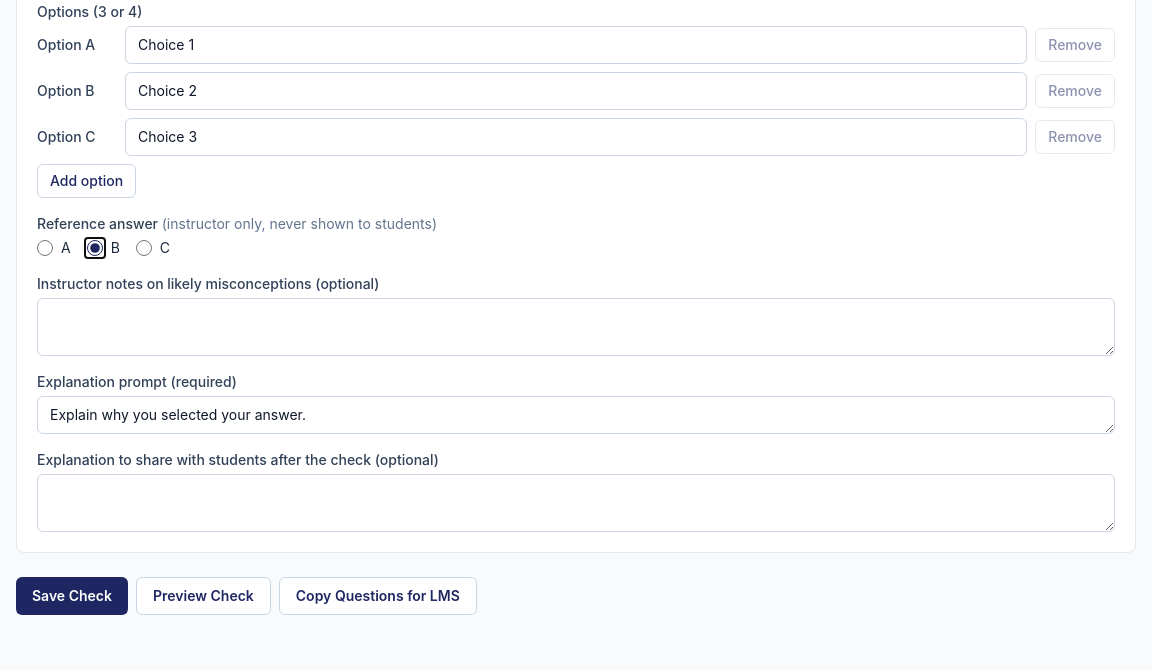
Test case: Save creates a non-demo check for the selected instructor and navigates to its import page
This screenshot has width=1152, height=671.
Earlier steps of the test are not shown.
(page scrolled)
Step 1. Click the button "Save Check" → click(72, 596), box x1=16 y1=577 x2=128 y2=615
(page scrolled)
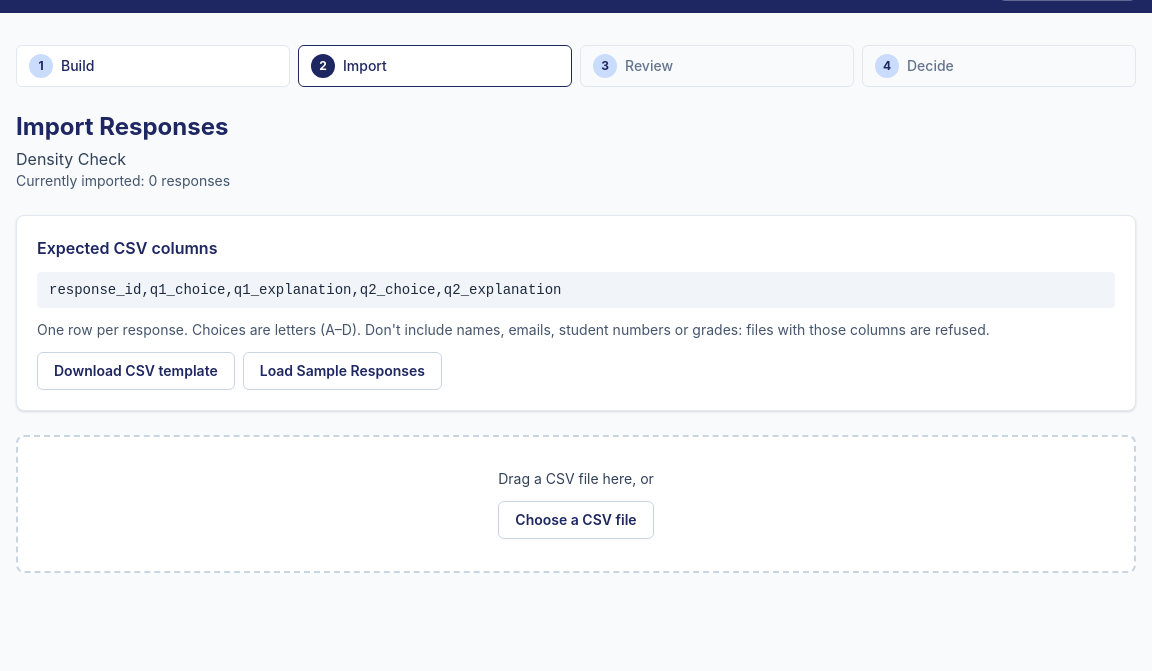
Check: the heading "Import Responses" is shown, box x1=16 y1=112 x2=228 y2=141
